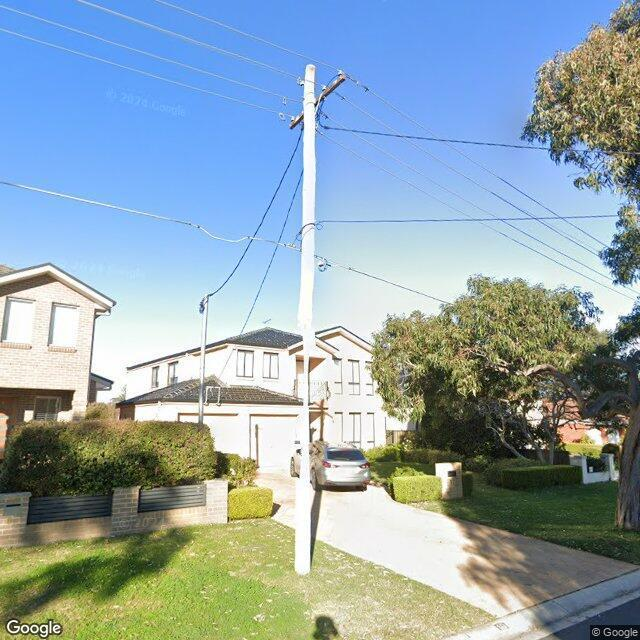crossarm: (288, 74, 346, 132)
steel-pole: (198, 292, 209, 423)
timber-pole: (292, 61, 316, 574)
